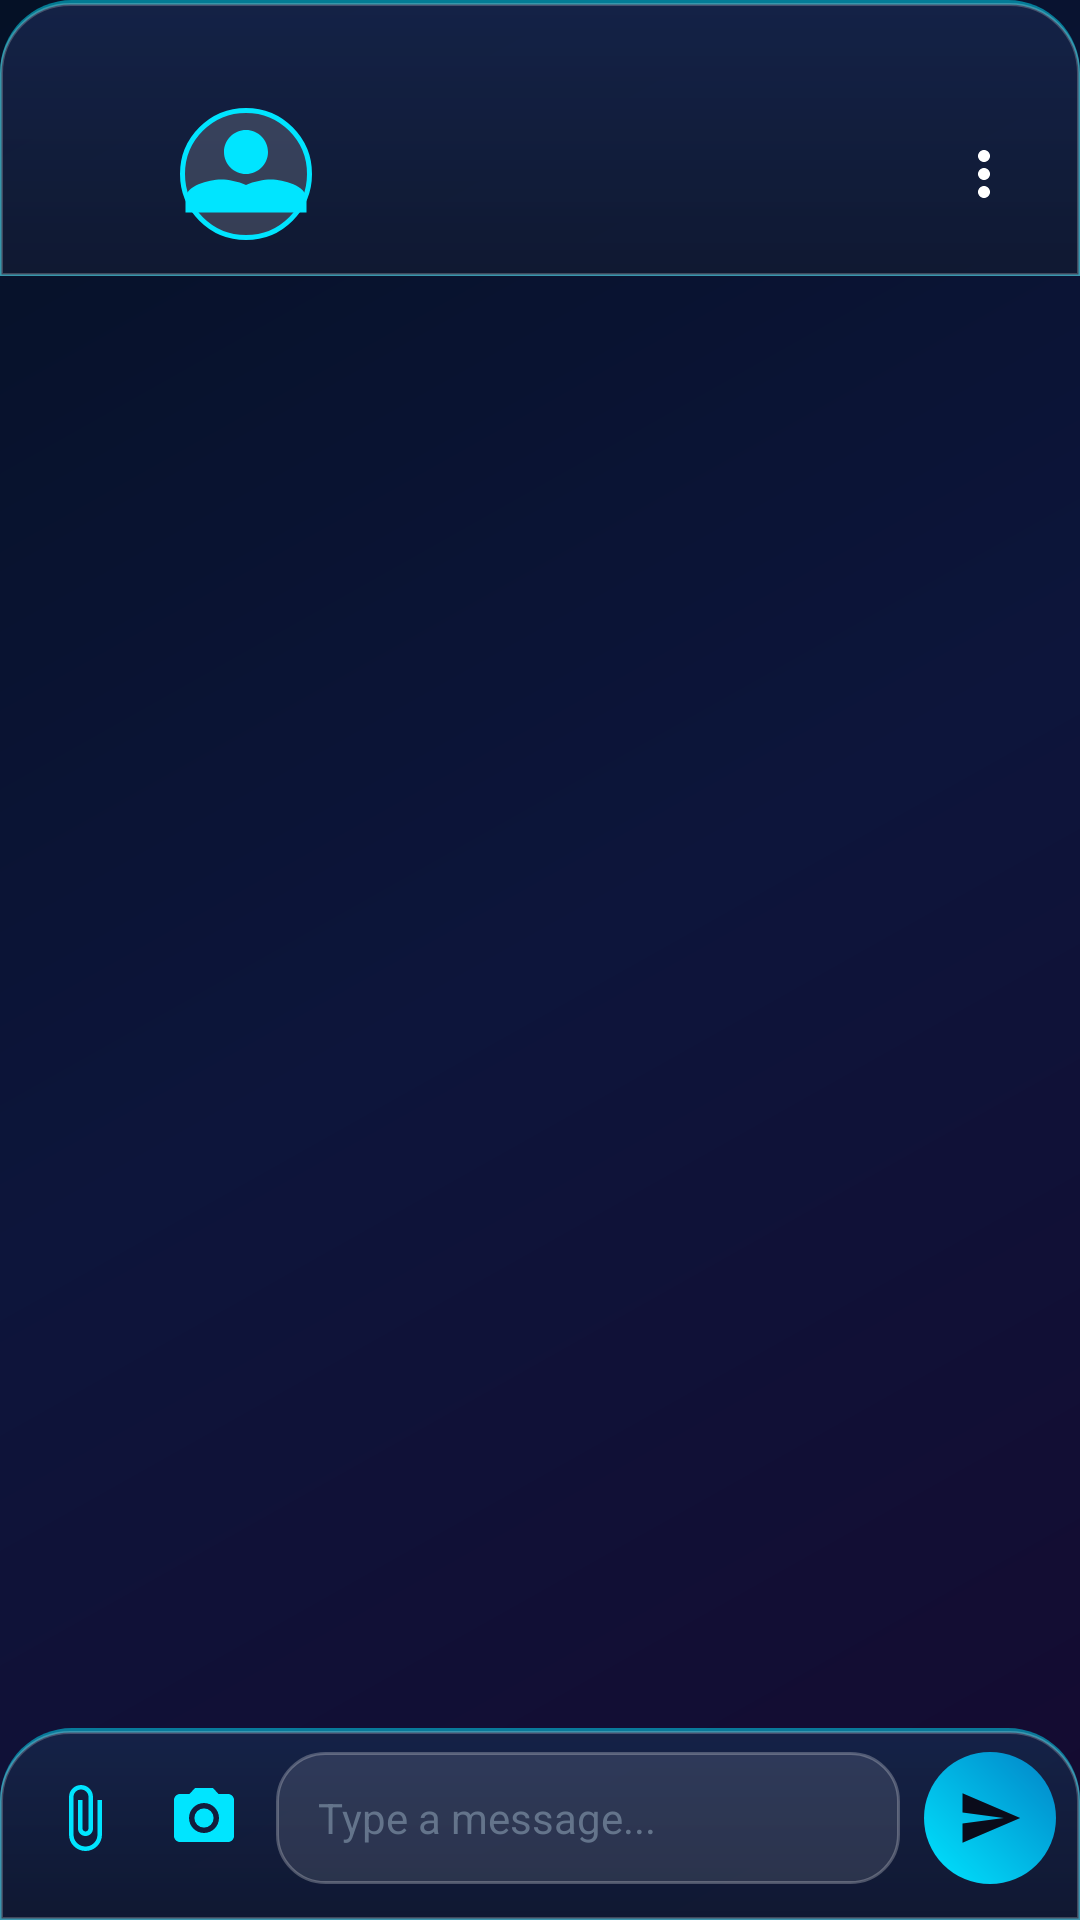

Screen size 1080 × 1920. Icon name, then its center in pixels as [x,y]:
attach: [85,1818]
camera: [204,1815]
send: [991,1818]
